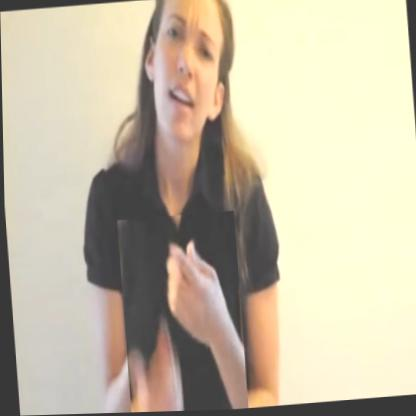HowAreYou: (116, 211, 246, 413)
